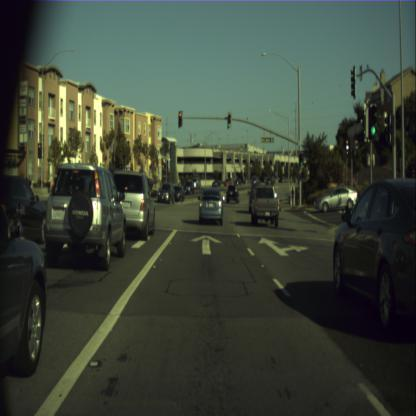Green: (368, 102, 378, 140), (227, 112, 232, 130), (299, 152, 303, 166)
RedLeft: (178, 110, 183, 128)
